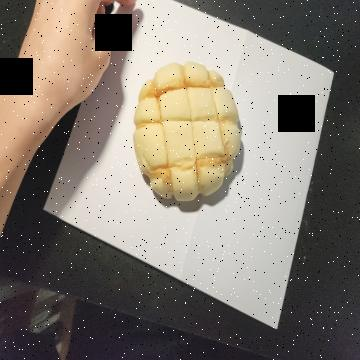melon_bread: (134, 61, 243, 202)
